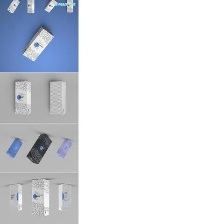carton: (20, 24, 58, 63), (28, 176, 53, 217), (11, 78, 36, 118), (26, 129, 53, 166), (45, 77, 68, 118), (6, 181, 26, 212), (56, 183, 76, 211), (55, 135, 75, 161), (4, 135, 24, 160), (3, 0, 22, 16), (42, 0, 61, 16), (63, 0, 77, 16), (24, 0, 37, 16)
